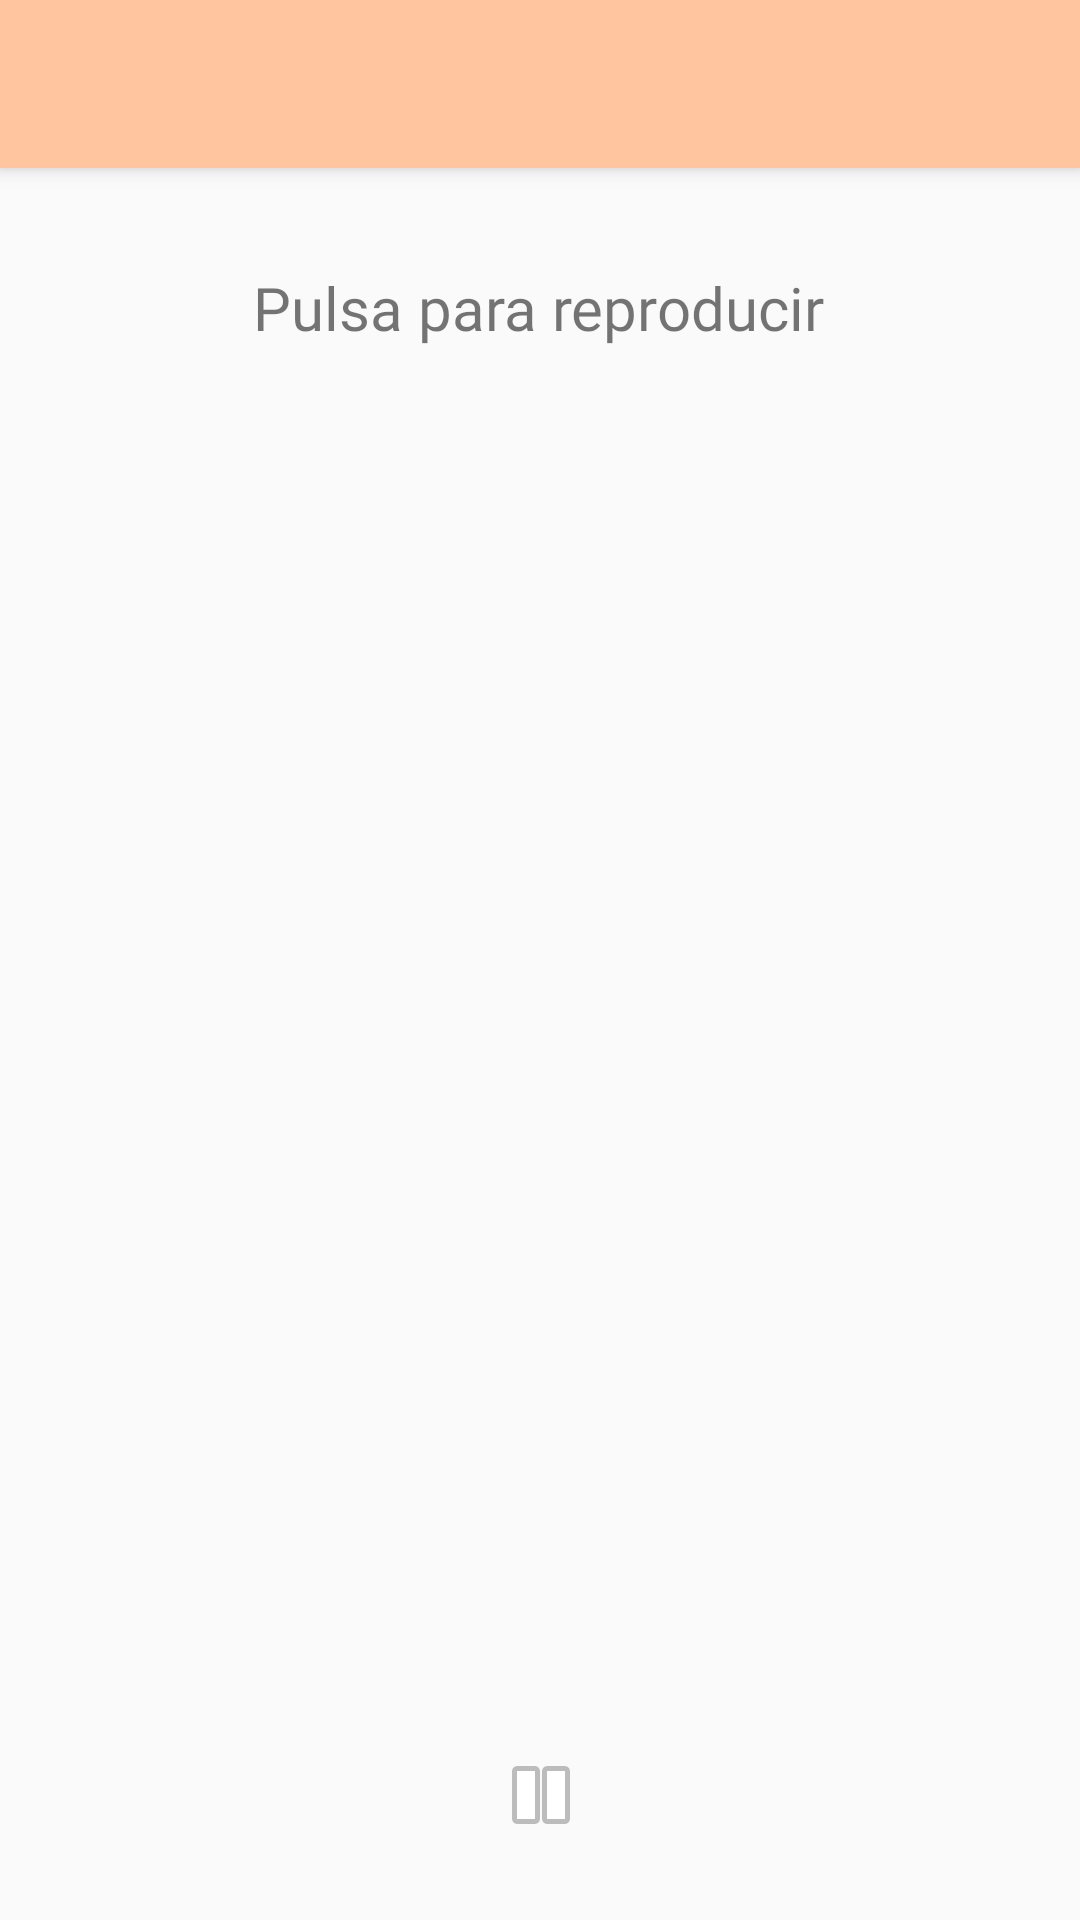

Where to tap for icons on this 1080 × 1920 app screen, as (x=x, y=y):
pause: (x=541, y=1795)
